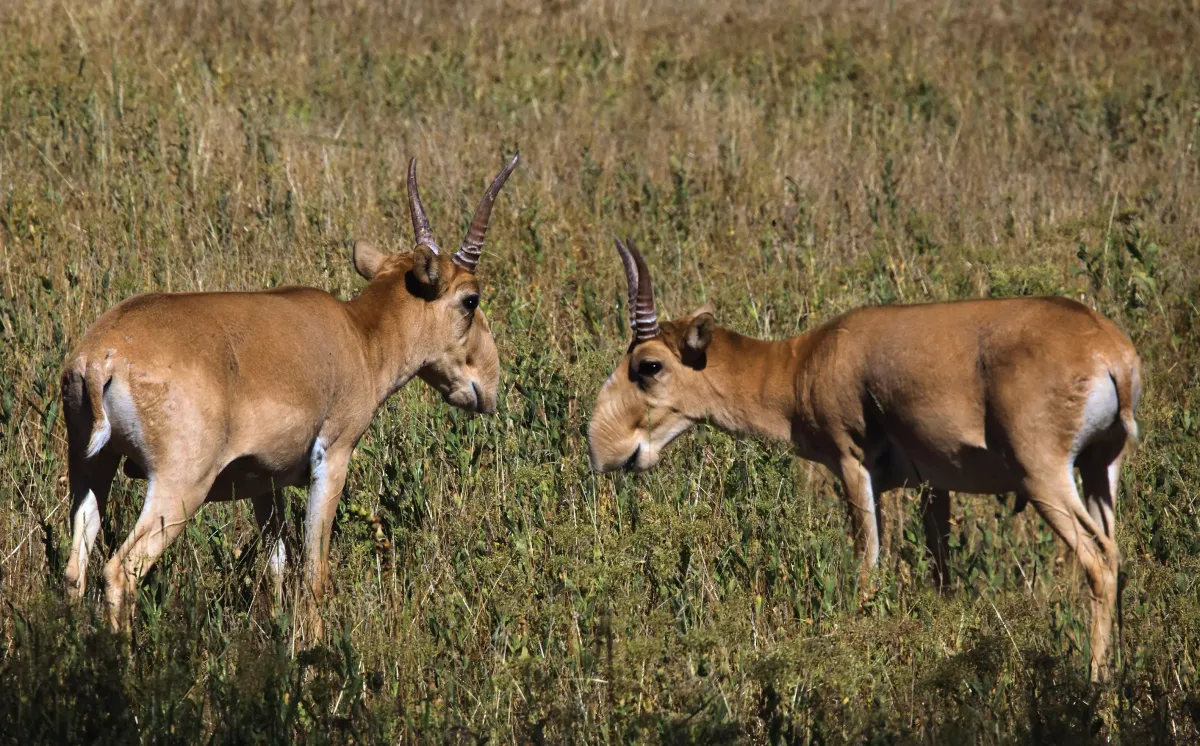saiga: (589, 233, 1141, 685), (61, 149, 518, 682)
